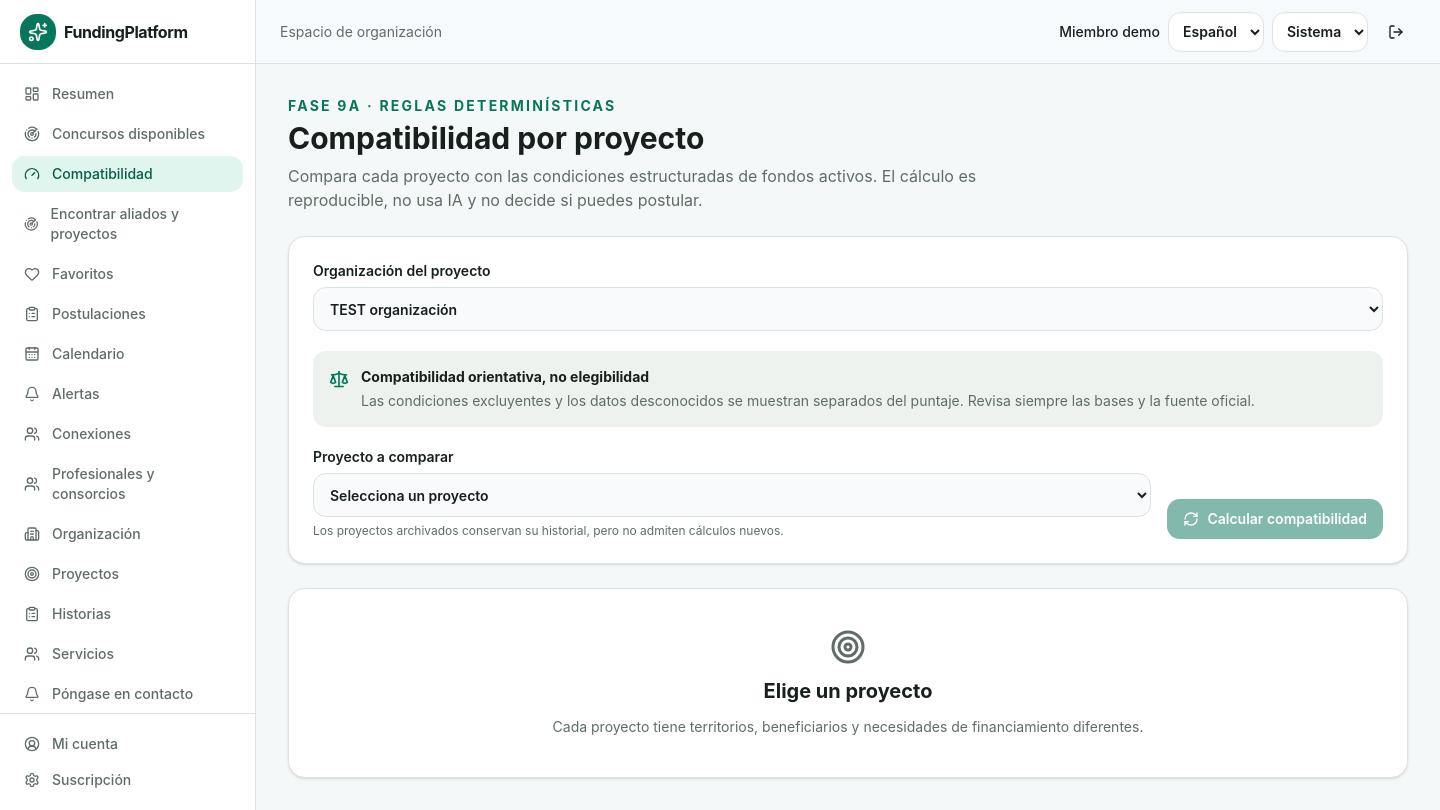
it: compatibilidad determinística por proyecto › abre la organización solicitada, conserva su selección y limpia el proyecto al cambiarla
Expected: the dropdown labelled "Organización del proyecto" shows "TEST organización", [313, 287, 1383, 331]
Select "Agua segura" in the dropdown labelled "Proyecto a comparar" at (732, 495), box [313, 473, 1151, 517]
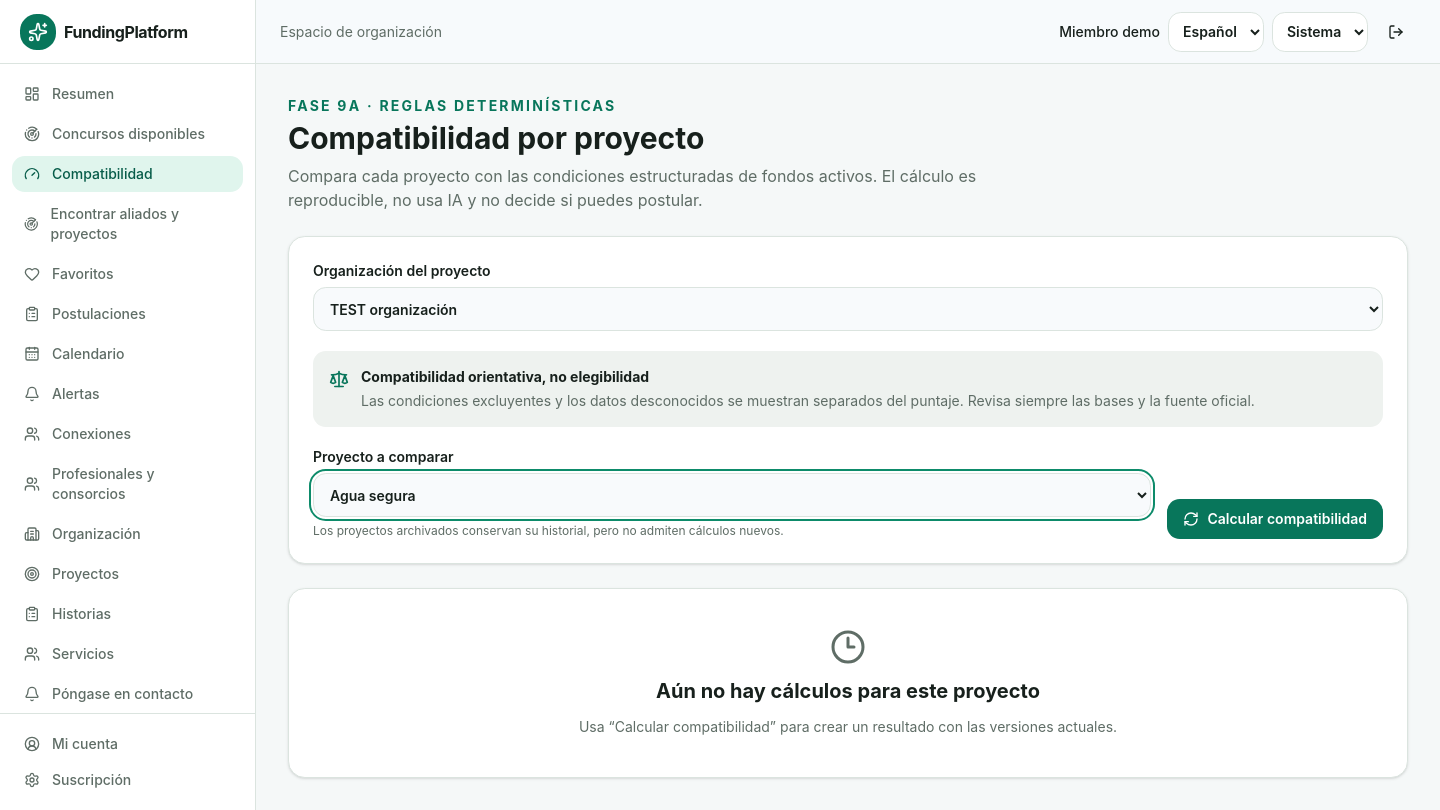
Expected: the heading "Aún no hay cálculos para este proyecto" is shown, [656, 679, 1040, 703]
Select "Fundación Demo" in the dropdown labelled "Organización del proyecto" at (848, 309), box [313, 287, 1383, 331]
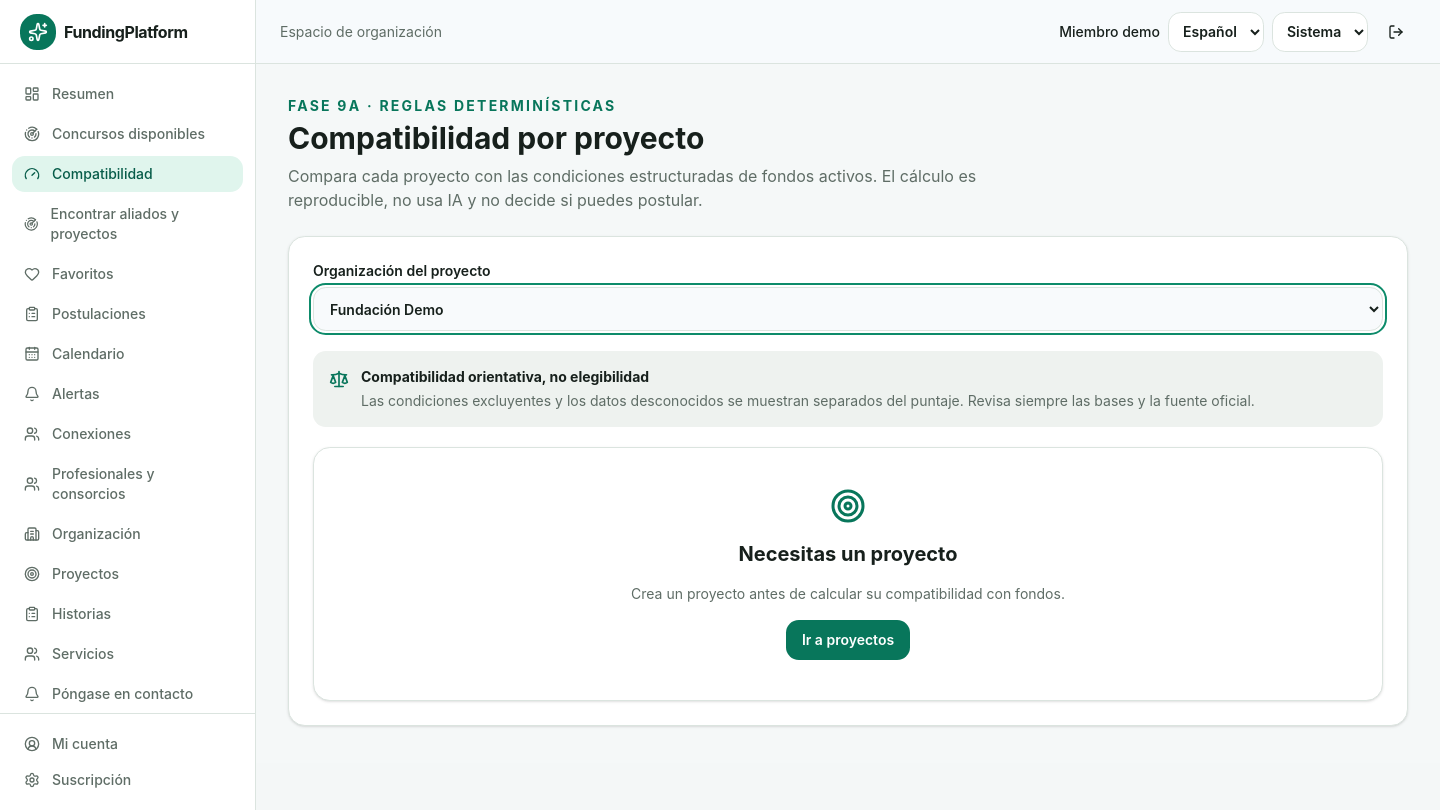
Expected: the heading "Necesitas un proyecto" is shown, [738, 542, 958, 566]
